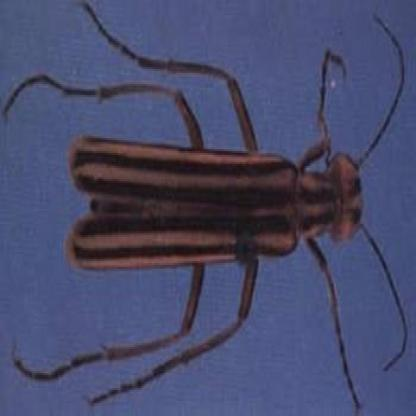beetle: (1, 1, 416, 416)
